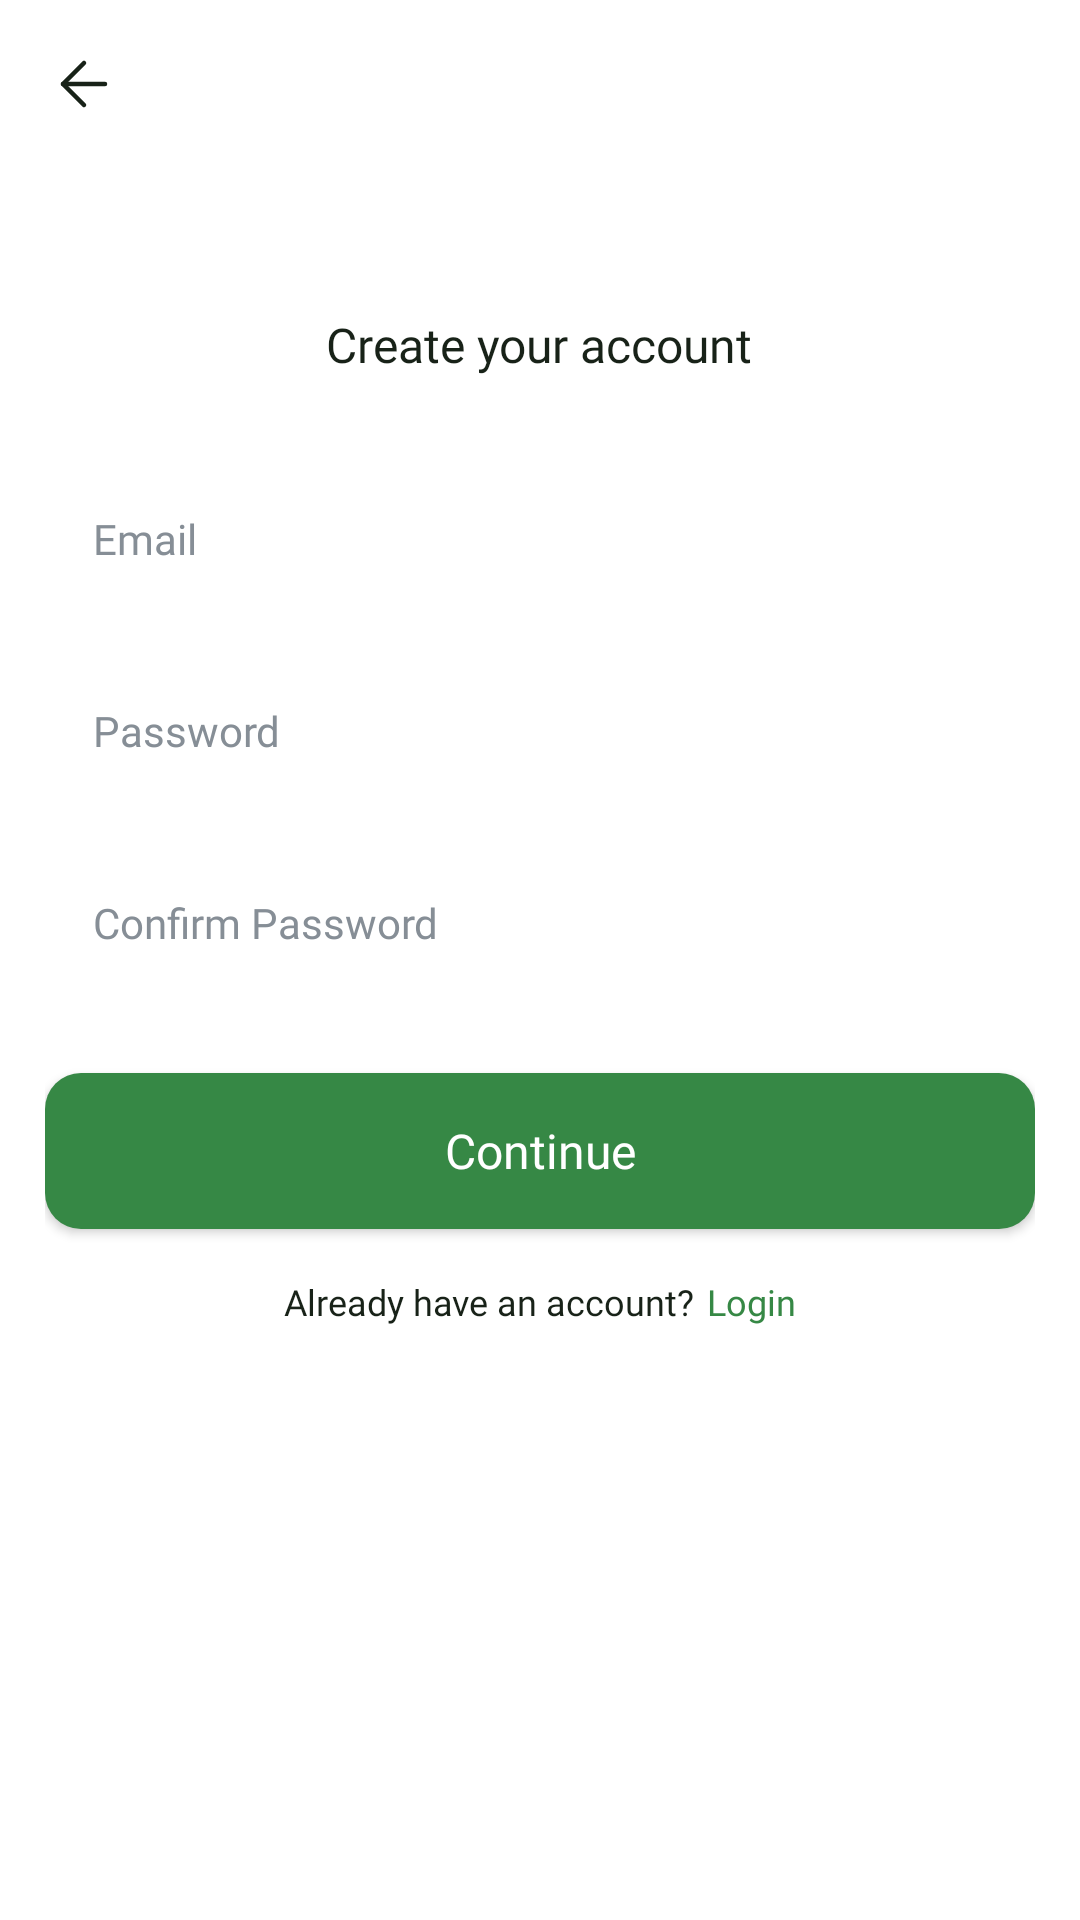

Point at icon controls on the screen. Image size 1080 × 1920, points as [x,y].
Back: [83,84]
